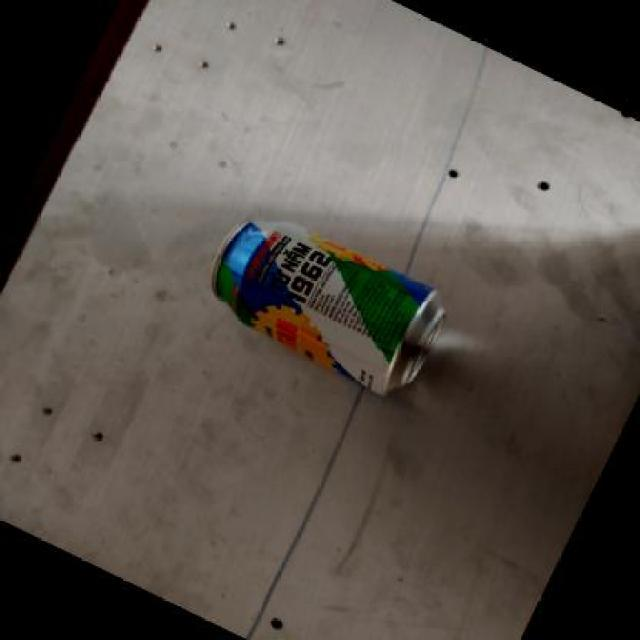recyclable: (180, 181, 494, 430)
